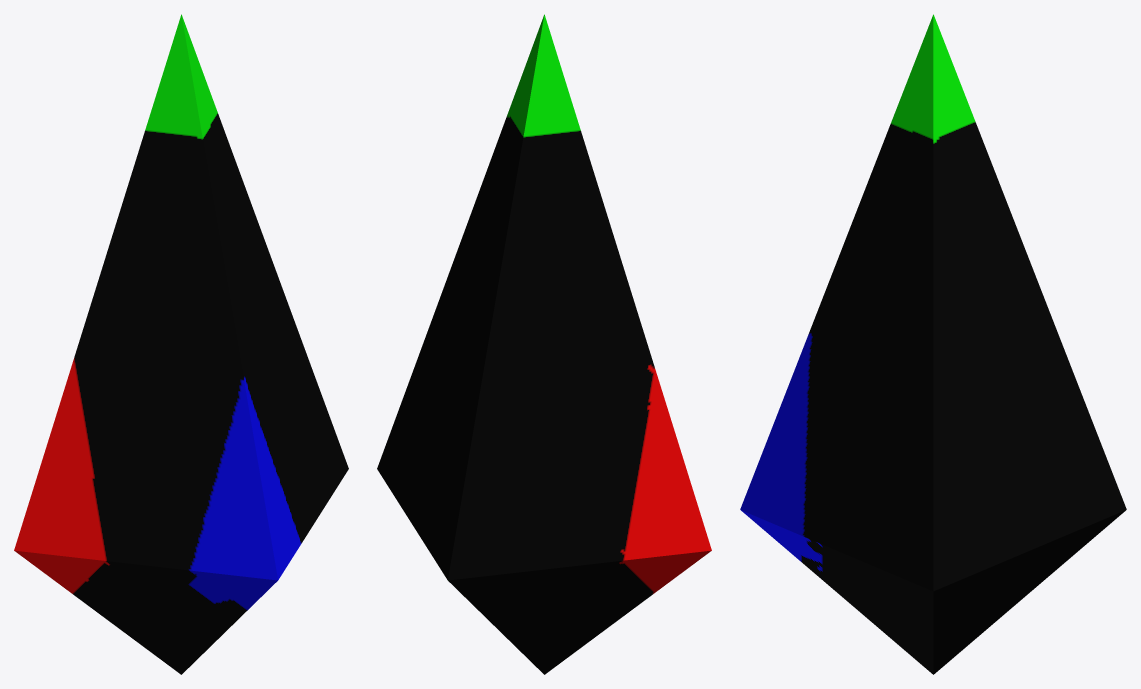
File: bone.fbx
3 views of the same model, side by side, from view 1: azimuth 30°, elevation 25°; view 2: azimuth 150°, elevation 25°; view 3: azimuth 270°, elevation 25° (orthographic).
Visible parts, largest first — view 1: Pyramid; view 2: Pyramid; view 3: Pyramid.
Part boxes in pixels (bbox=[...]): Pyramid: bbox=[14, 14, 348, 674]; Pyramid: bbox=[377, 14, 711, 674]; Pyramid: bbox=[740, 14, 1126, 674].
Bounding box in the file's own units: 21.21 × 40 × 21.21.
1 material, 1 textured.
